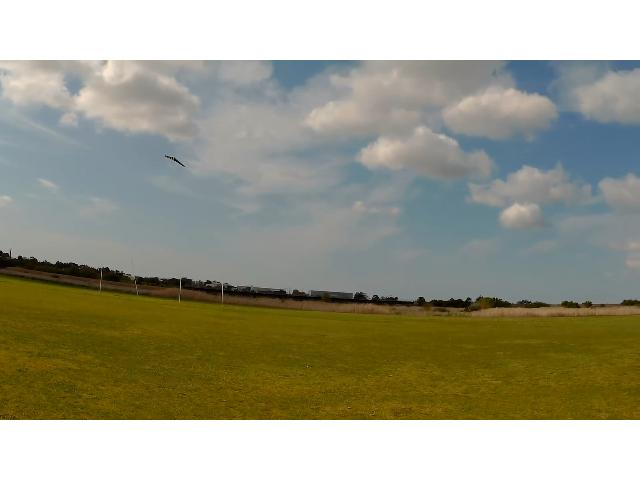Anti-Drone: (165, 155, 185, 166)
